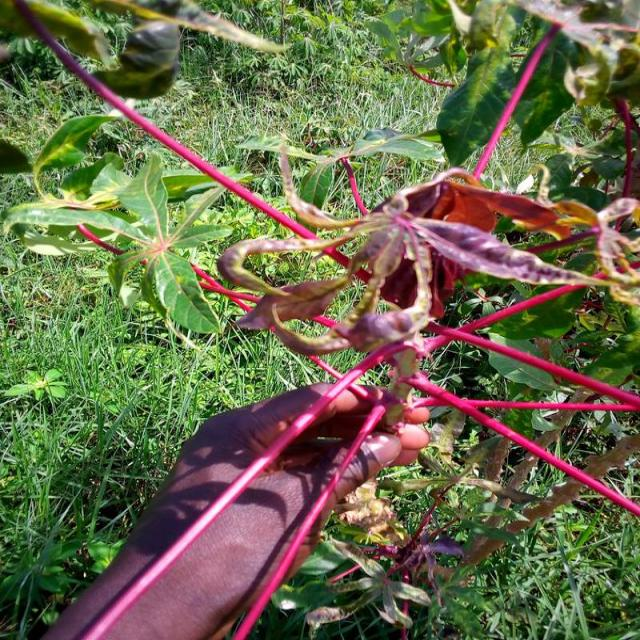cassava leaf: (140, 247, 222, 336)
